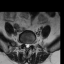CCS_normal: (26, 41, 28, 51)
LFS_normal: (30, 41, 32, 47)
LLS_normal: (28, 41, 30, 49)
RFS_severe_stenosis: (22, 40, 24, 47)
RLS_normal: (24, 41, 26, 48)
